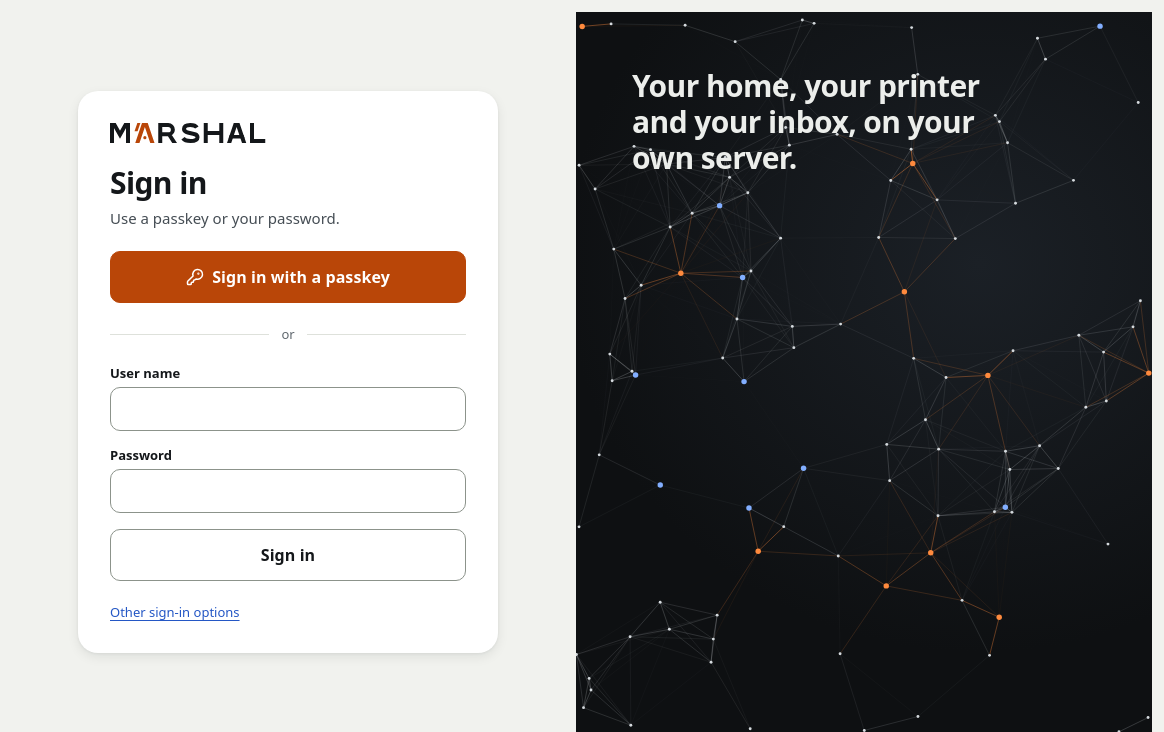
Test: LocalLoginPage › shows an error for wrong credentials
This screenshot has width=1164, height=732.
Type "lukas" into the field named "userName" at x=288, y=409, box [110,387,466,431]
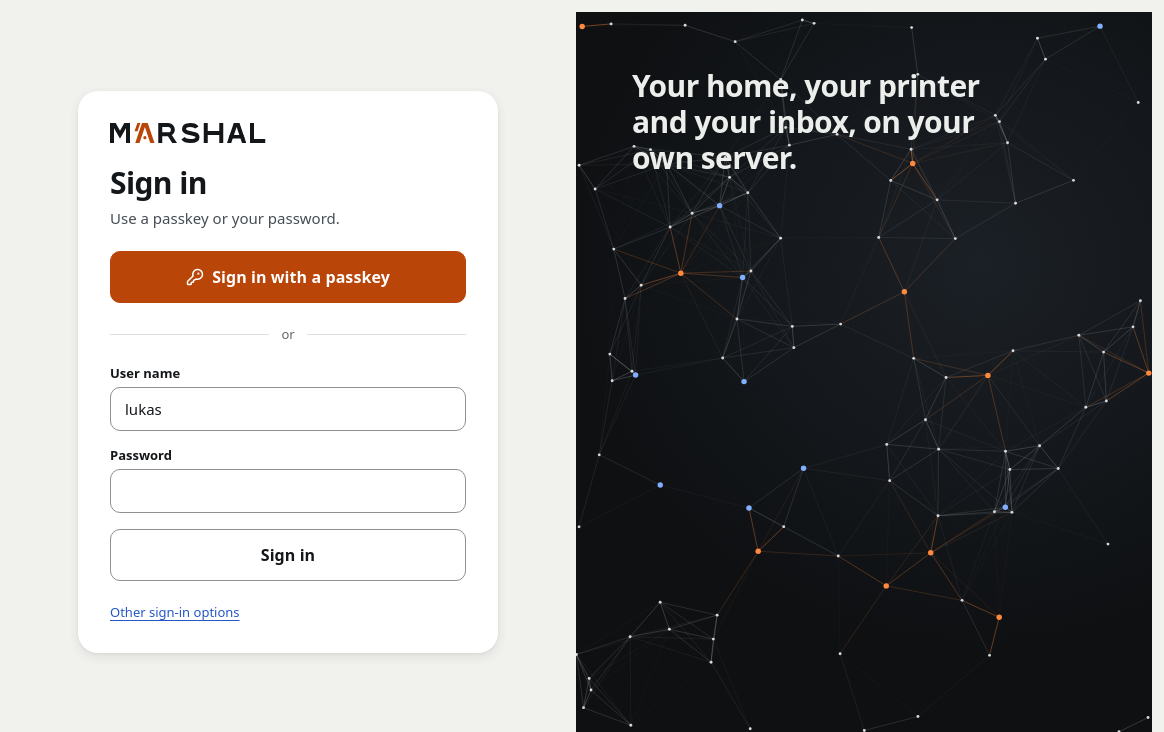
Type "nope" into the password field named "password" at x=288, y=491, box [110,469,466,513]
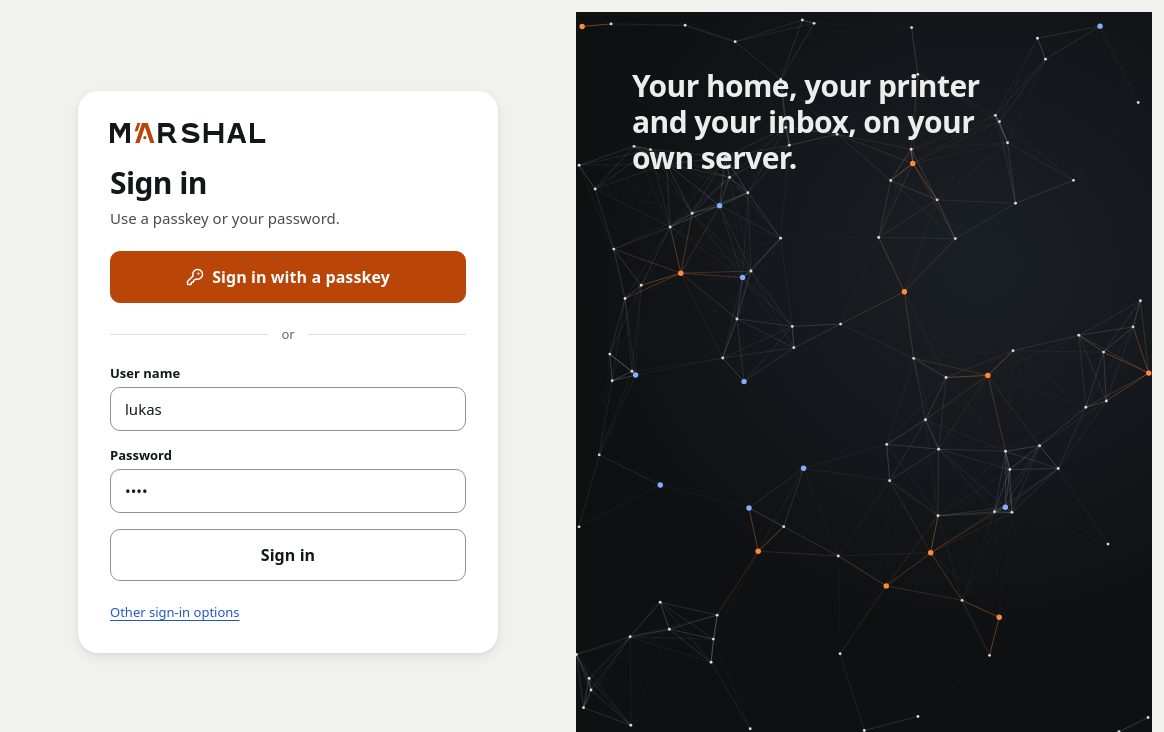
Submit the form, box [110,365,466,581]
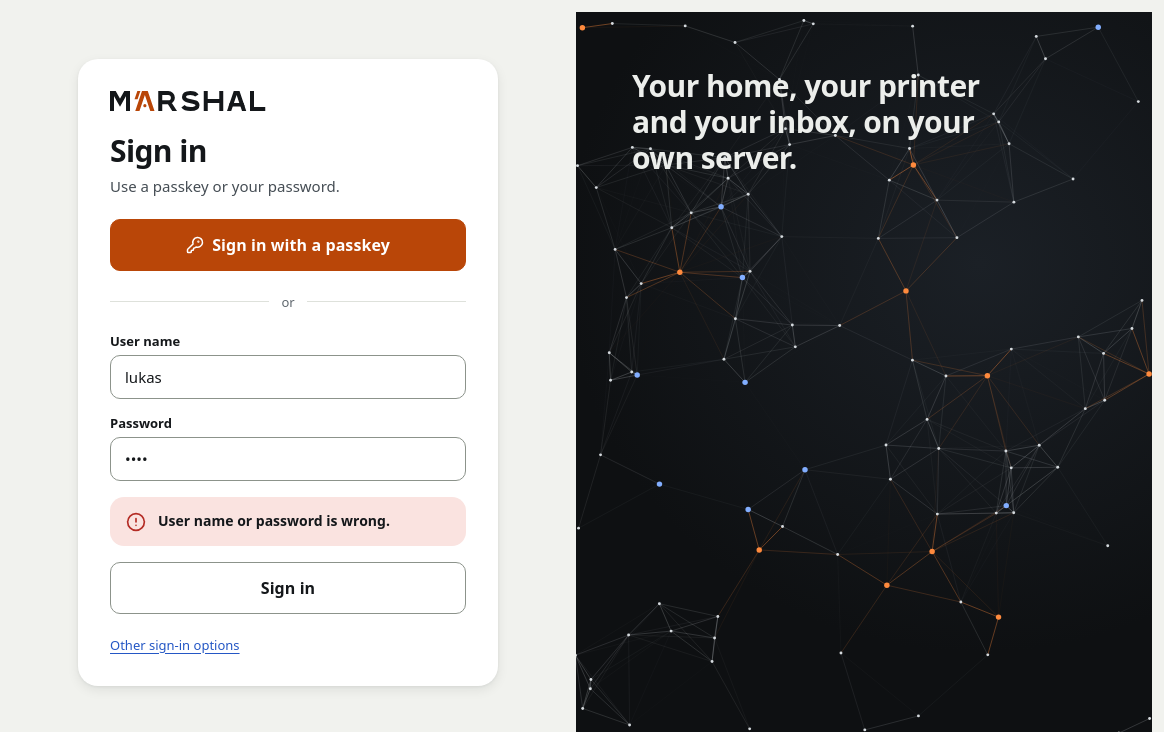
Now the message "User name or password is wrong." is shown, box [110,496,466,546]
